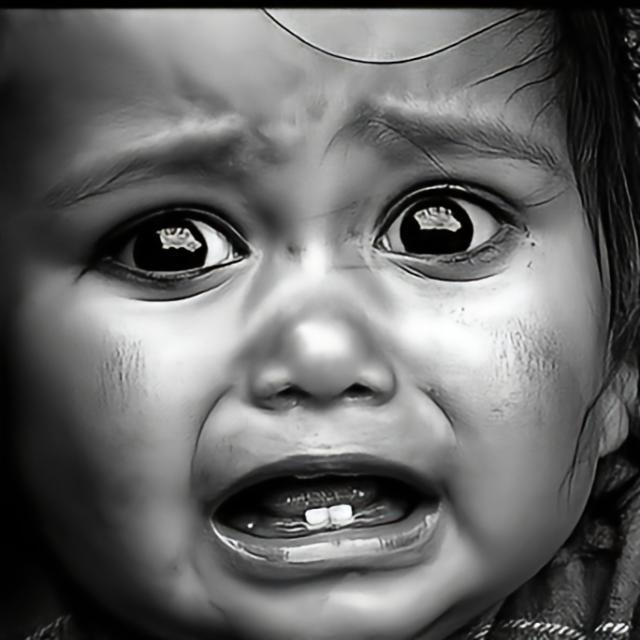sad: (51, 9, 592, 626)
